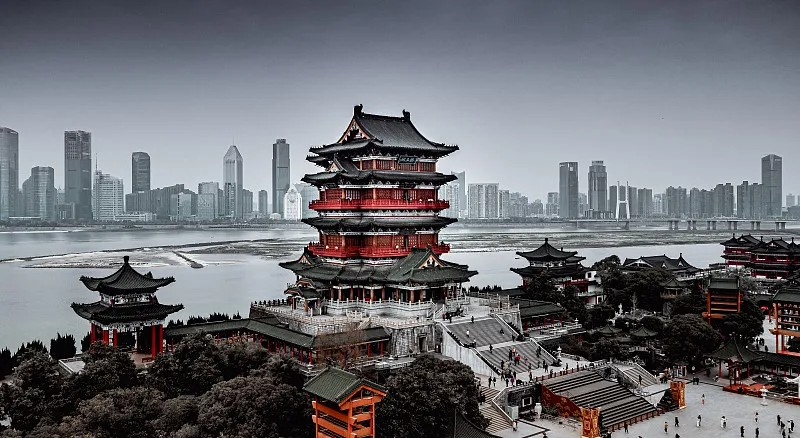Teng: (278, 105, 479, 308)
